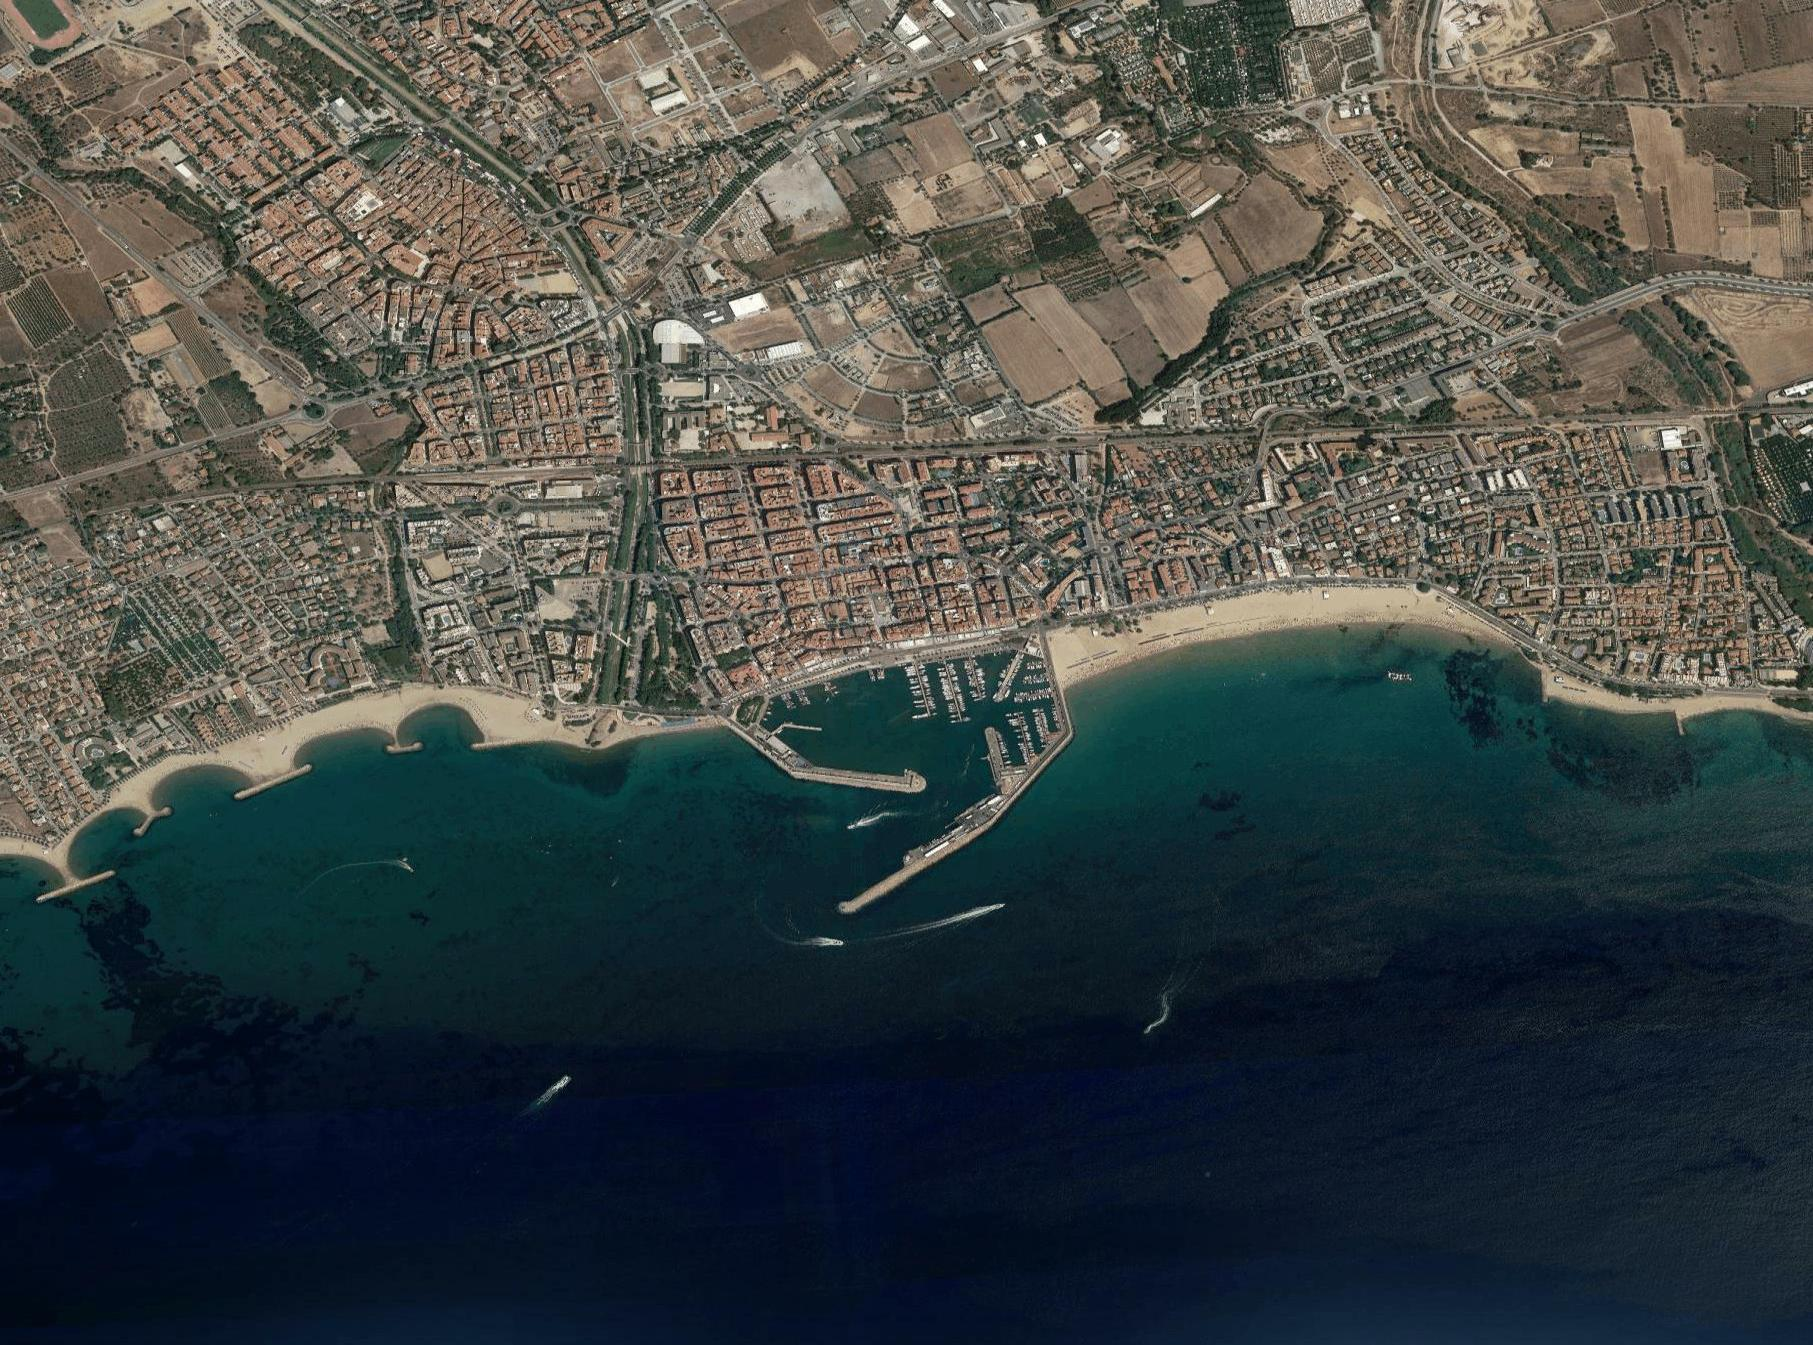harbor: (683, 595, 1115, 913)
